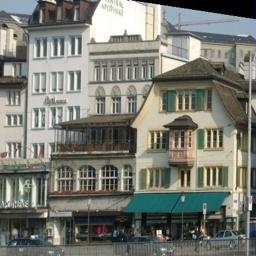building: (132, 58, 256, 253), (21, 0, 94, 230)
